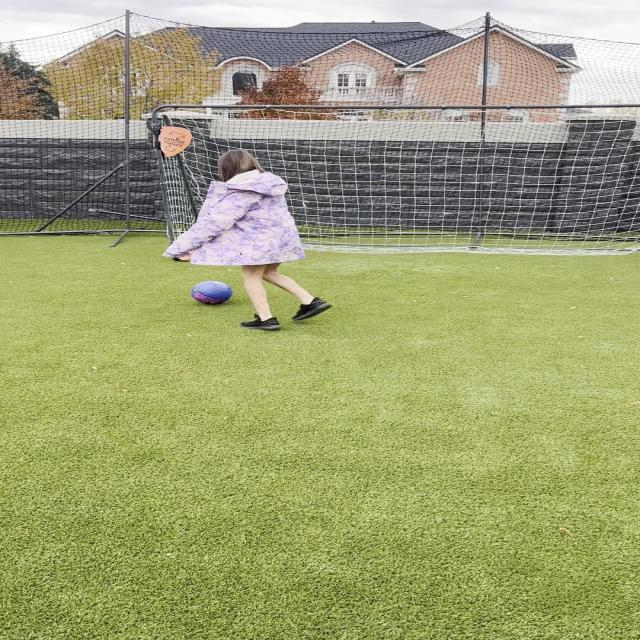Soccer Ball: (192, 280, 234, 305)
